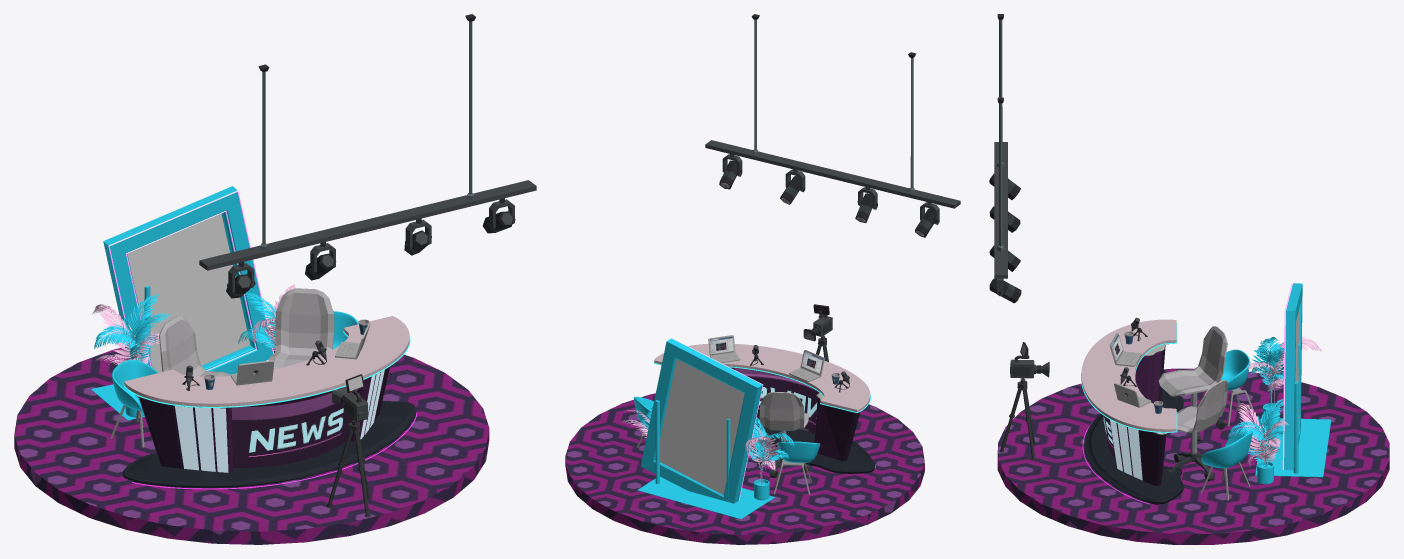
File: LTTV_Set.glb
The picture shows the model from 3 angles, left to right: view 1: azimuth 30°, elevation 25°; view 2: azimuth 150°, elevation 25°; view 3: azimuth 270°, elevation 25°; orthographic projection. The views are drawn at different scales.
Parts seen in each view (by area): view 1: Floor.002, NewsDesk, Content_Screen, Countertop - even width, SM_Prop_Light_Spotlight_02, Frame_Color_1_0, DeskChair.001, DeskChair, Chair1_Color_1_0, Tripod, Camera, Palm_Leaf19_Color_2_0 (+3 smaller); view 2: Floor.002, Content_Screen, Frame_Color_1_0, NewsDesk, SM_Prop_Light_Spotlight_02, Countertop - even width, Floor, DeskChair, Chair1_Color_1_0, Laptop.001, Laptop, Camera; view 3: Floor.002, NewsDesk, Countertop - even width, SM_Prop_Light_Spotlight_02, DeskChair, Frame_Color_1_0, Floor, DeskChair.001, Chair_Color_1_0, Chair1_Color_1_0, Camera, Tripod (+5 smaller).
Boxes of the visible parts, x1,y1,x2,y2 form: Floor.002: [14, 331, 489, 544]; NewsDesk: [122, 366, 415, 487]; Content_Screen: [127, 213, 250, 372]; Countertop - even width: [124, 316, 409, 407]; SM_Prop_Light_Spotlight_02: [199, 14, 536, 292]; Frame_Color_1_0: [103, 186, 272, 374]; DeskChair.001: [268, 288, 334, 369]; DeskChair: [159, 316, 230, 376]; Chair1_Color_1_0: [112, 359, 158, 411]; Tripod: [326, 403, 370, 517]; Camera: [332, 374, 367, 421]; Palm_Leaf19_Color_2_0: [121, 294, 158, 359]; Floor.002: [565, 393, 924, 544]; Content_Screen: [660, 359, 744, 494]; Frame_Color_1_0: [640, 338, 762, 503]; NewsDesk: [730, 367, 874, 473]; SM_Prop_Light_Spotlight_02: [705, 14, 960, 224]; Countertop - even width: [654, 344, 870, 412]; Floor: [637, 476, 775, 519]; DeskChair: [756, 392, 810, 477]; Chair1_Color_1_0: [777, 441, 820, 462]; Laptop.001: [789, 350, 824, 382]; Laptop: [708, 335, 740, 363]; Camera: [803, 304, 832, 341]; Floor.002: [997, 368, 1389, 544]; NewsDesk: [1084, 344, 1183, 504]; Countertop - even width: [1081, 319, 1176, 432]; SM_Prop_Light_Spotlight_02: [994, 14, 1007, 296]; DeskChair: [1158, 326, 1227, 441]; Frame_Color_1_0: [1284, 283, 1302, 470]; Floor: [1255, 418, 1331, 477]; DeskChair.001: [1167, 380, 1228, 480]; Chair_Color_1_0: [1201, 431, 1252, 468]; Chair1_Color_1_0: [1221, 349, 1250, 390]; Camera: [1010, 342, 1049, 379]; Tripod: [999, 379, 1035, 459].
Bounding box in the file's own units: 3.68 × 4.19 × 3.75.
Materials: 26 (9 with a texture image).
